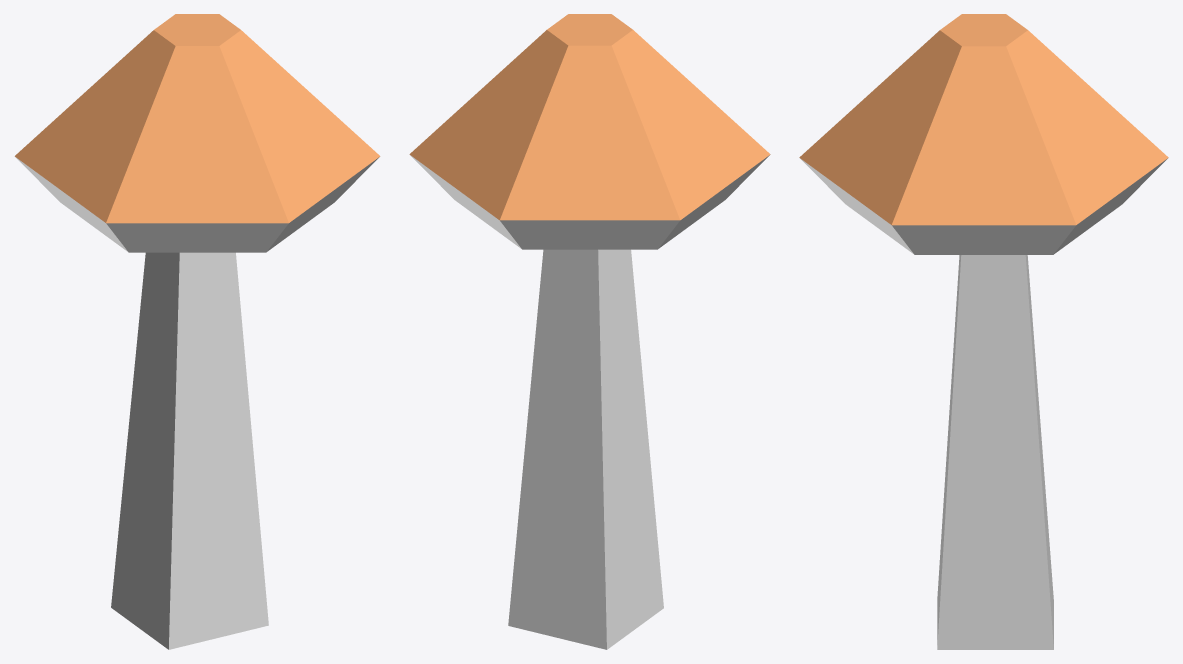
The model's file is mushroom_brownTall.fbx.
The picture shows the model from 3 angles, left to right: view 1: azimuth 30°, elevation 25°; view 2: azimuth 150°, elevation 25°; view 3: azimuth 270°, elevation 25°; orthographic projection. The views are drawn at different scales.
Parts seen in each view (by area): view 1: mushroom_brownTall; view 2: mushroom_brownTall; view 3: mushroom_brownTall.
Boxes of the visible parts, x1,y1,x2,y2 form: mushroom_brownTall: [14, 14, 380, 649]; mushroom_brownTall: [409, 14, 770, 649]; mushroom_brownTall: [799, 14, 1168, 649].
Bounding box in the file's own units: 0.9881 × 2.03 × 1.14.
